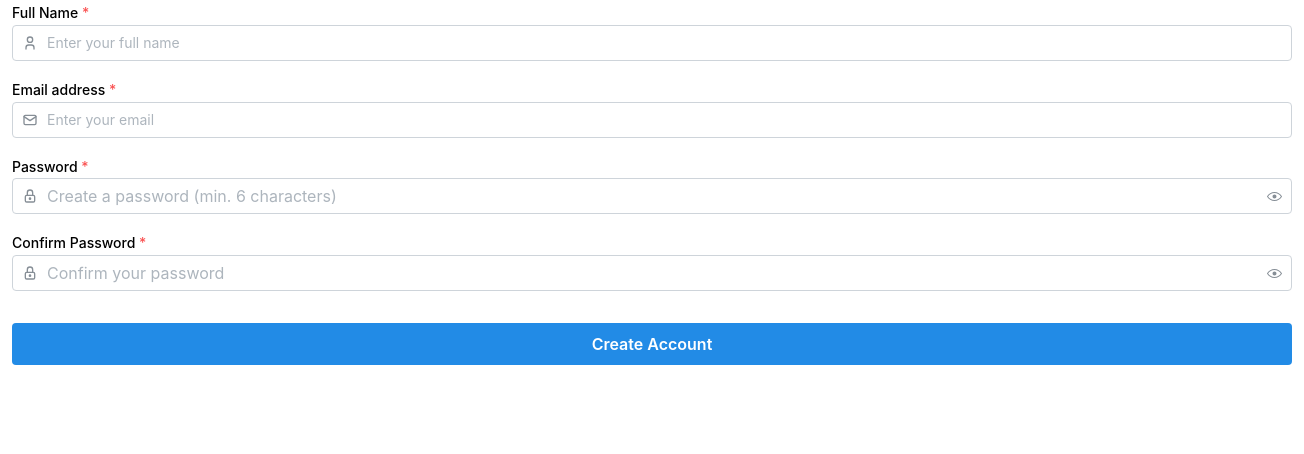
Test: SignUpForm Component › displays success message after successful signup
This screenshot has width=1304, height=454.
In the field with test id "signup-fullname-input": (652, 43) 12,25 -> 1292,61, type "John Doe"
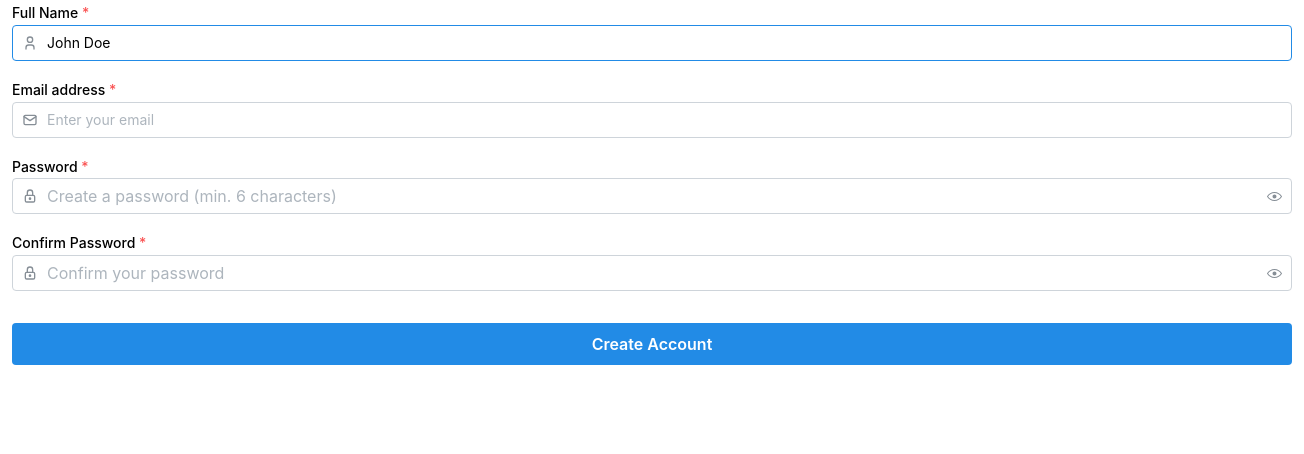
In the field with test id "signup-email-input": (652, 120) 12,102 -> 1292,138, type "test@example.com"
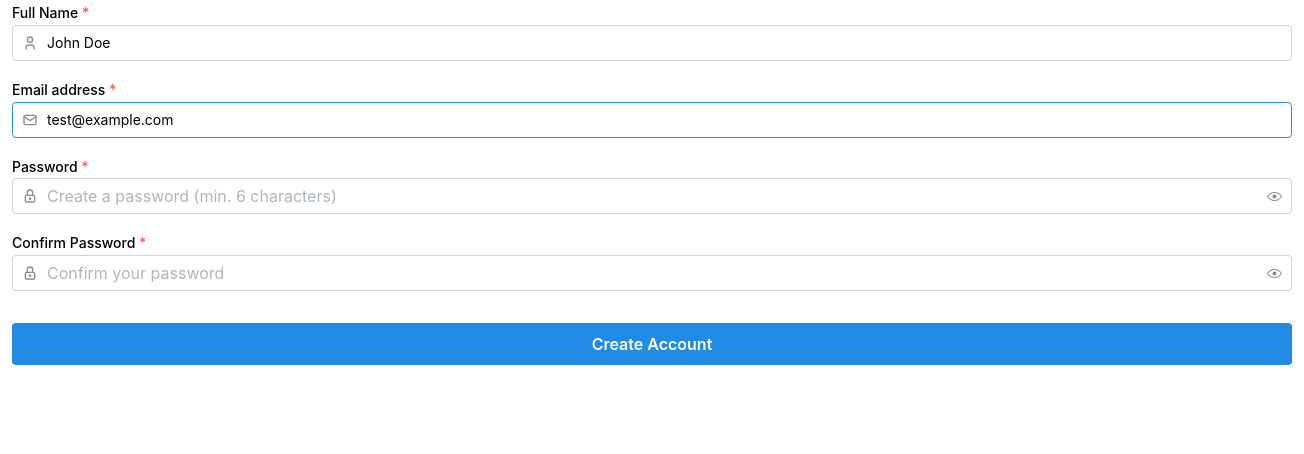
In the password field with test id "signup-password-input": (652, 196) 13,179 -> 1291,213, type "password123"
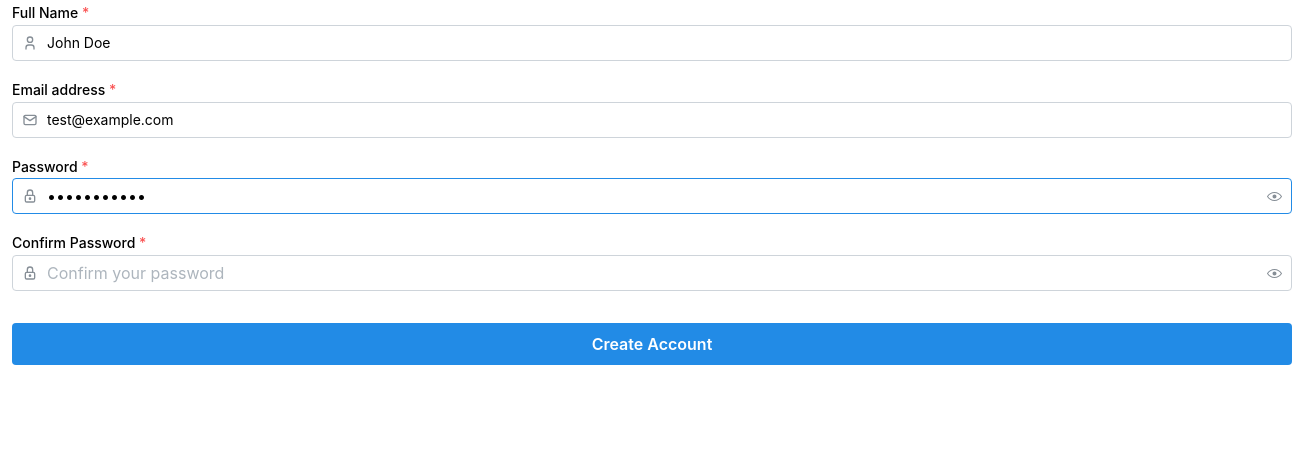
In the password field with test id "signup-confirm-password-input": (652, 273) 13,256 -> 1291,290, type "password123"
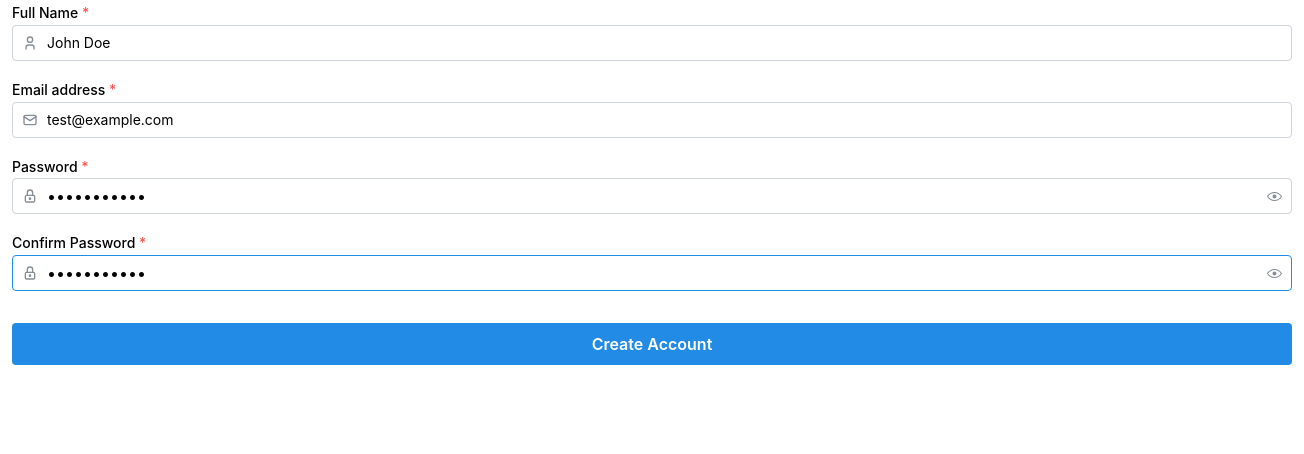
Click the button with test id "signup-submit-button": (652, 344) 12,323 -> 1292,365
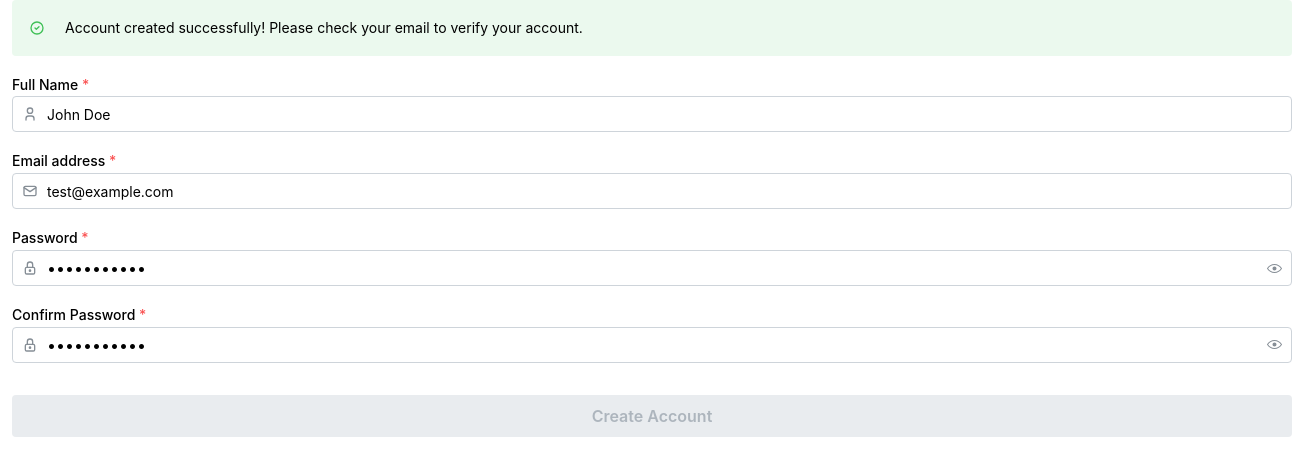
expect the text "Account created successfully" is shown: met, box 65,19 -> 583,36
